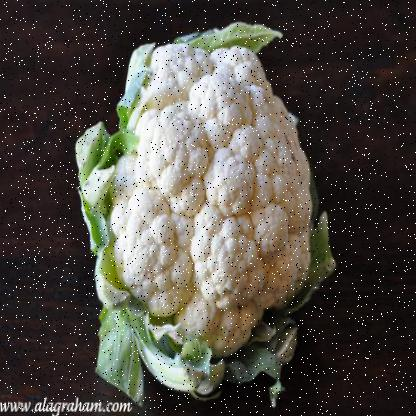cauliflower: (95, 37, 318, 385)
